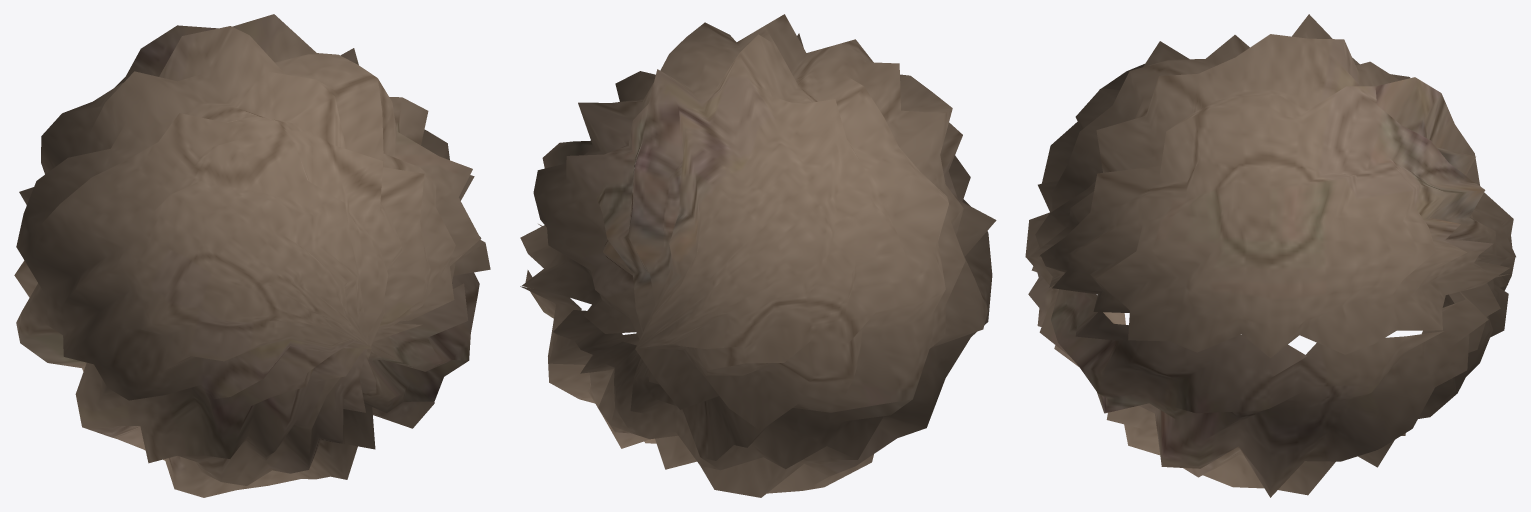
Rendered from phobos.glb.
3 views of the same model, side by side, from view 1: azimuth 30°, elevation 25°; view 2: azimuth 150°, elevation 25°; view 3: azimuth 270°, elevation 25° (orthographic).
Bounding box in the file's own units: 2.16 × 2.19 × 2.23.
1 material, 1 textured.
